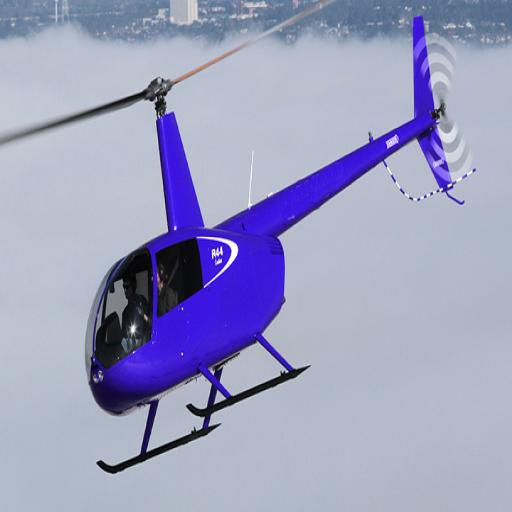helicopter: (79, 10, 482, 486)
